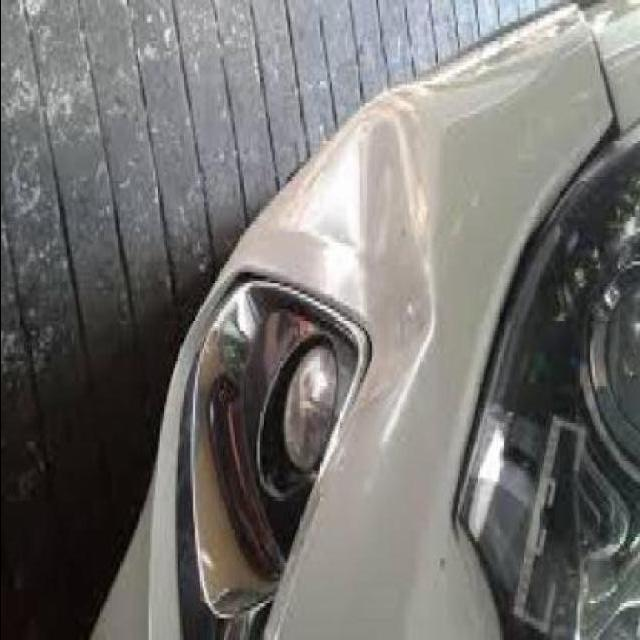front-bumper-dent: (130, 0, 554, 637)
